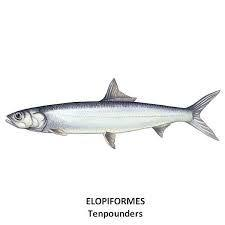Tenpounder: (5, 78, 225, 149)
